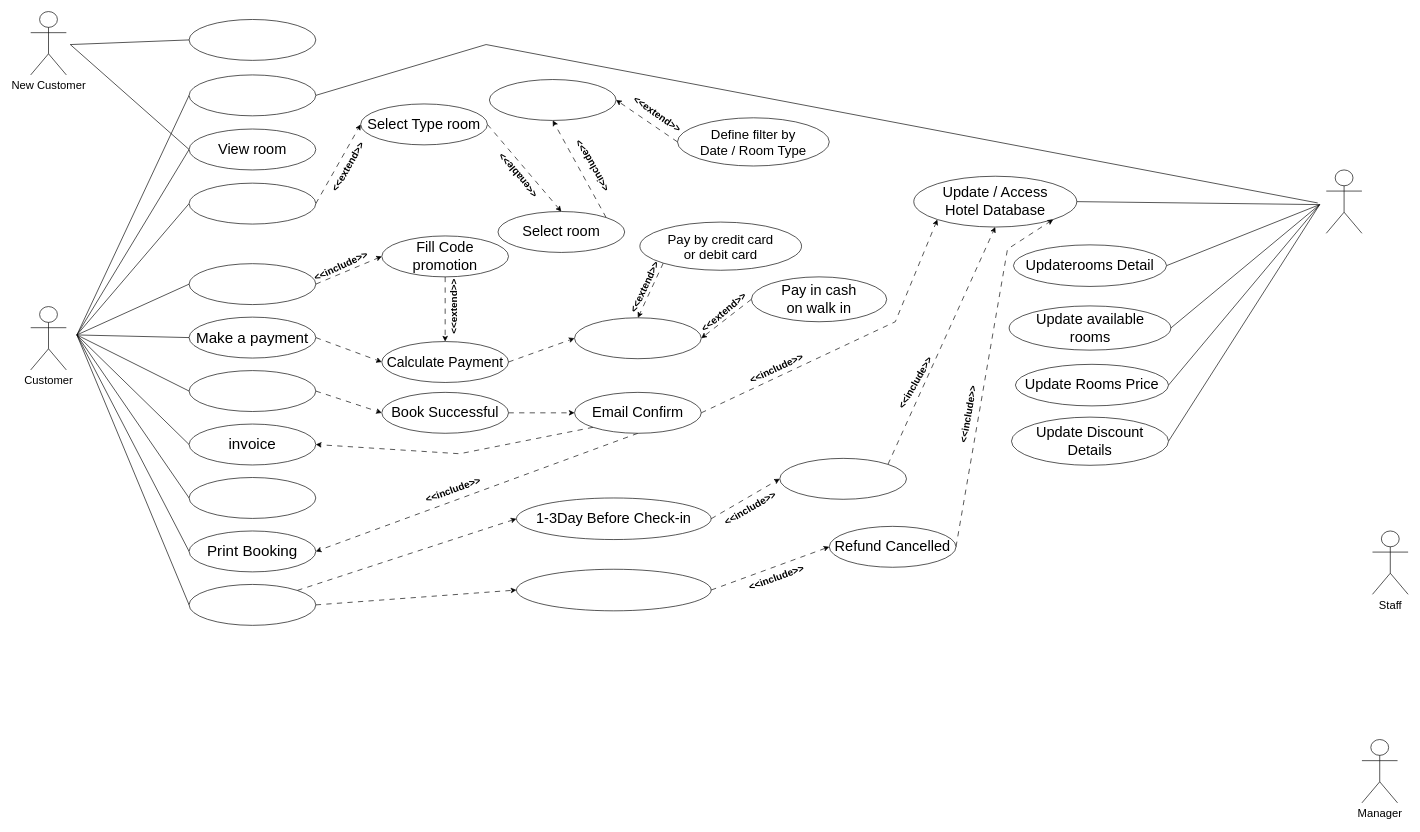
Some shapes in this 1420 by 832 pixel diagram are drawn without their labels. Here are the shapes that lost their labels. From the top down, the centre of each, then its label:
[252,39]: Register
[252,95]: Login
[552,99]: List available Rooms
[252,203]: Make Hotel Reservation
[1344,201]: Reception
[252,284]: Select promotion
[637,338]: Process Payment
[252,391]: Confirm Book
[252,497]: View order your book
[843,478]: Refund Success
[252,604]: Cancle
[613,590]: Last than 1-3Day Before Check-in
